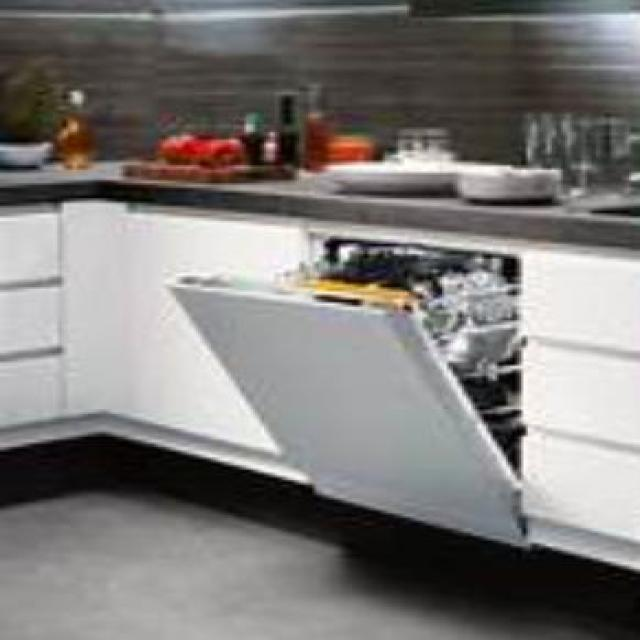dishwasher: (165, 219, 517, 546)
